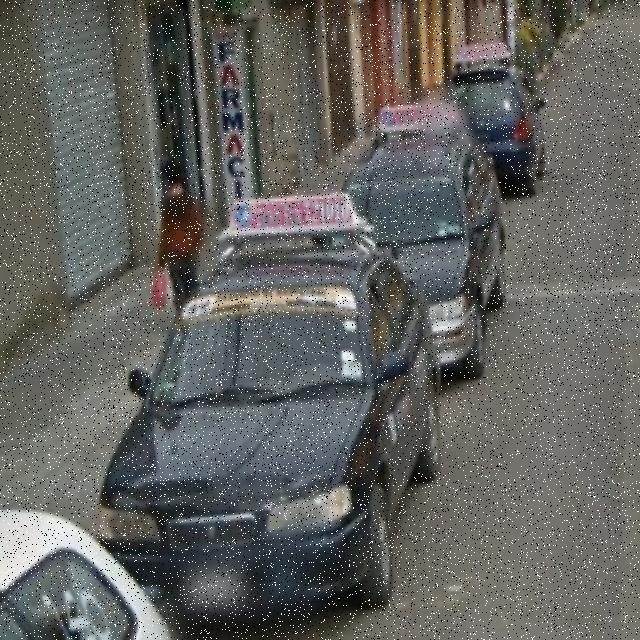cars: (92, 230, 446, 606), (354, 101, 516, 340), (462, 42, 551, 175)
